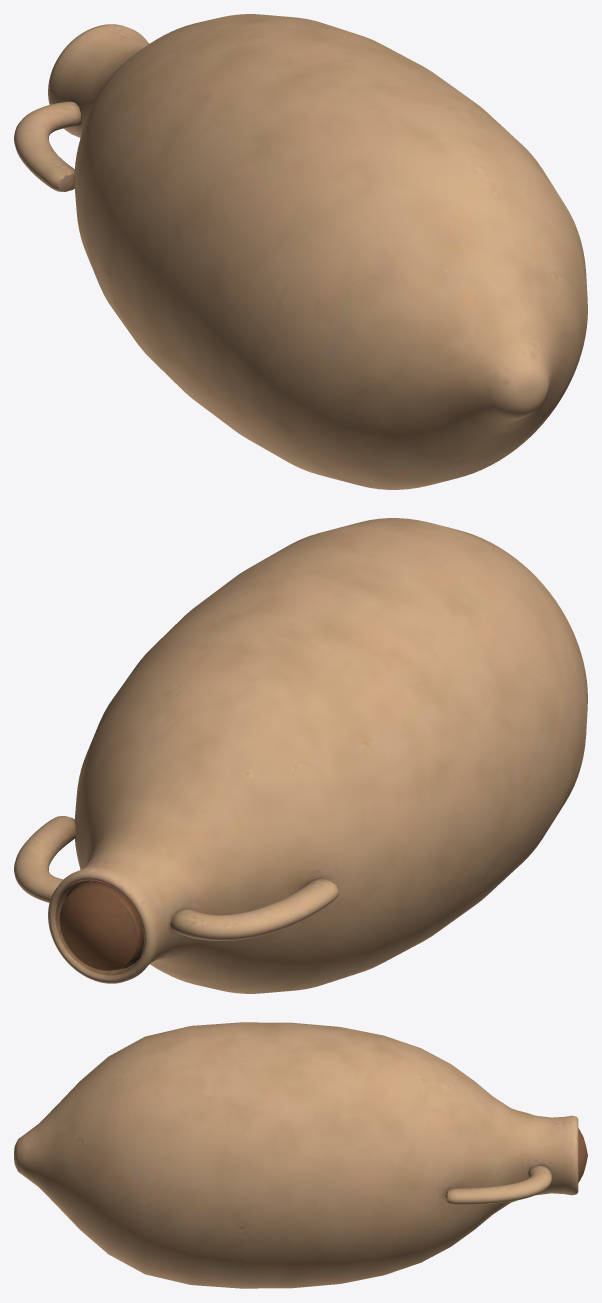
The model's file is amphora_oil.glb.
3 renders of one model, top to bottom at view 1: azimuth 30°, elevation 25°; view 2: azimuth 150°, elevation 25°; view 3: azimuth 270°, elevation 25°, orthographic. The views are drawn at different scales.
Visible parts, largest first — view 1: amphora_oil; view 2: amphora_oil; view 3: amphora_oil.
Part boxes in pixels (bbox=[...]): amphora_oil: bbox=[14, 14, 587, 489]; amphora_oil: bbox=[14, 518, 587, 993]; amphora_oil: bbox=[14, 1022, 587, 1288].
Bounding box in the file's own units: 0.2611 × 0.2611 × 0.5628.
1 material, 1 textured.
